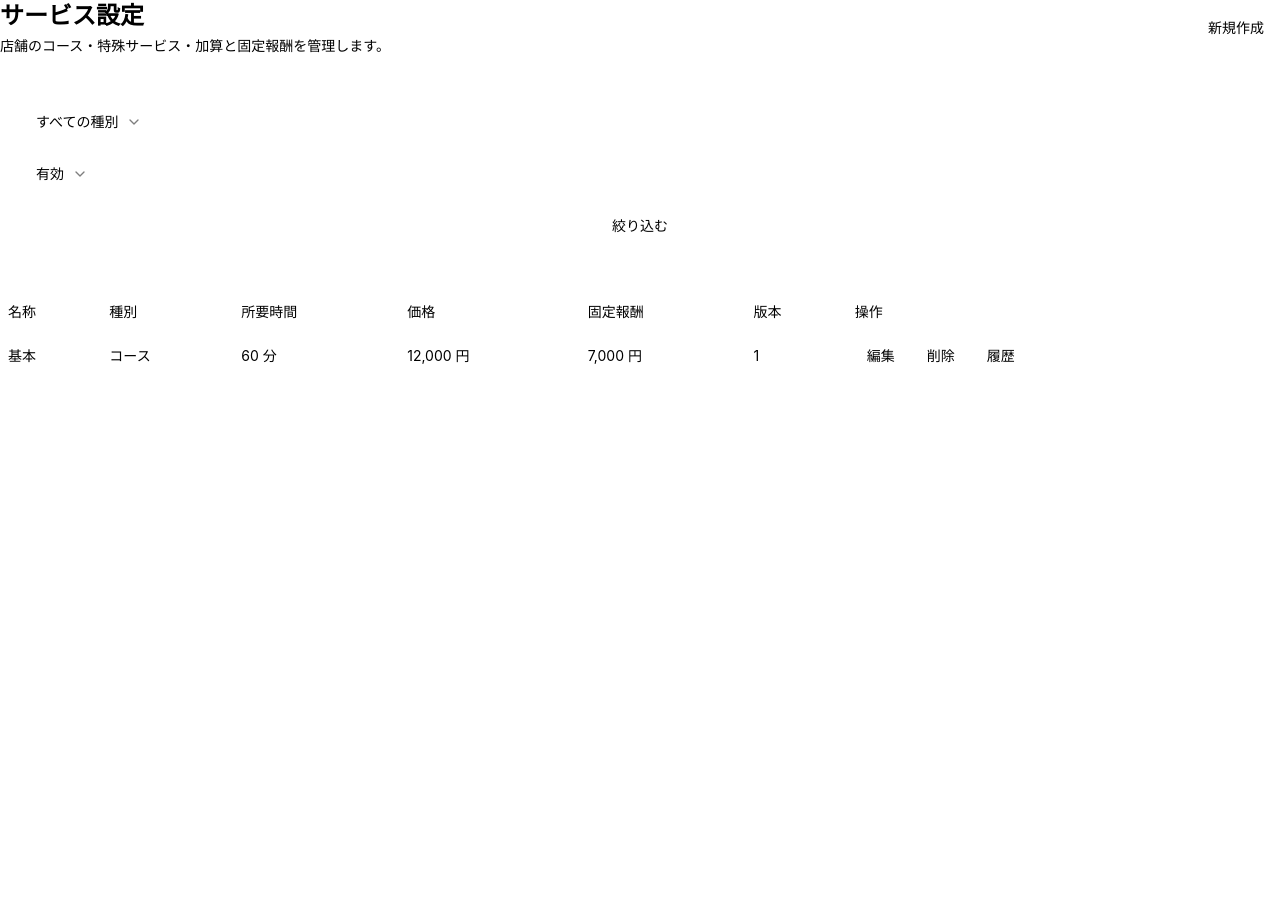
価格より大きい報酬は入力横に示し保存しない
Click the button "編集": click(881, 356) [855, 340, 907, 372]
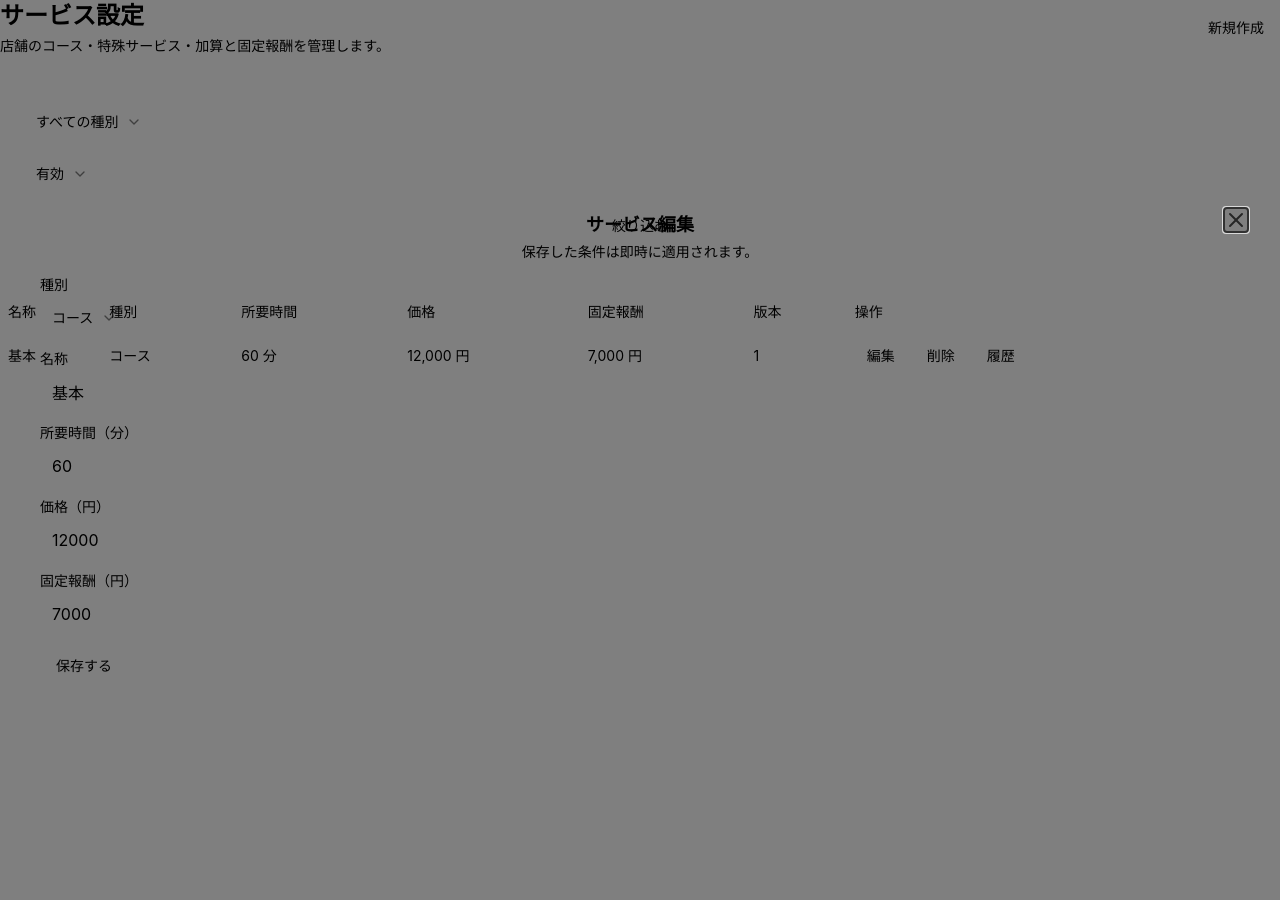
Replace the text in the number field labelled "固定報酬（円）" with "12001": (640, 614) [40, 596, 1240, 632]
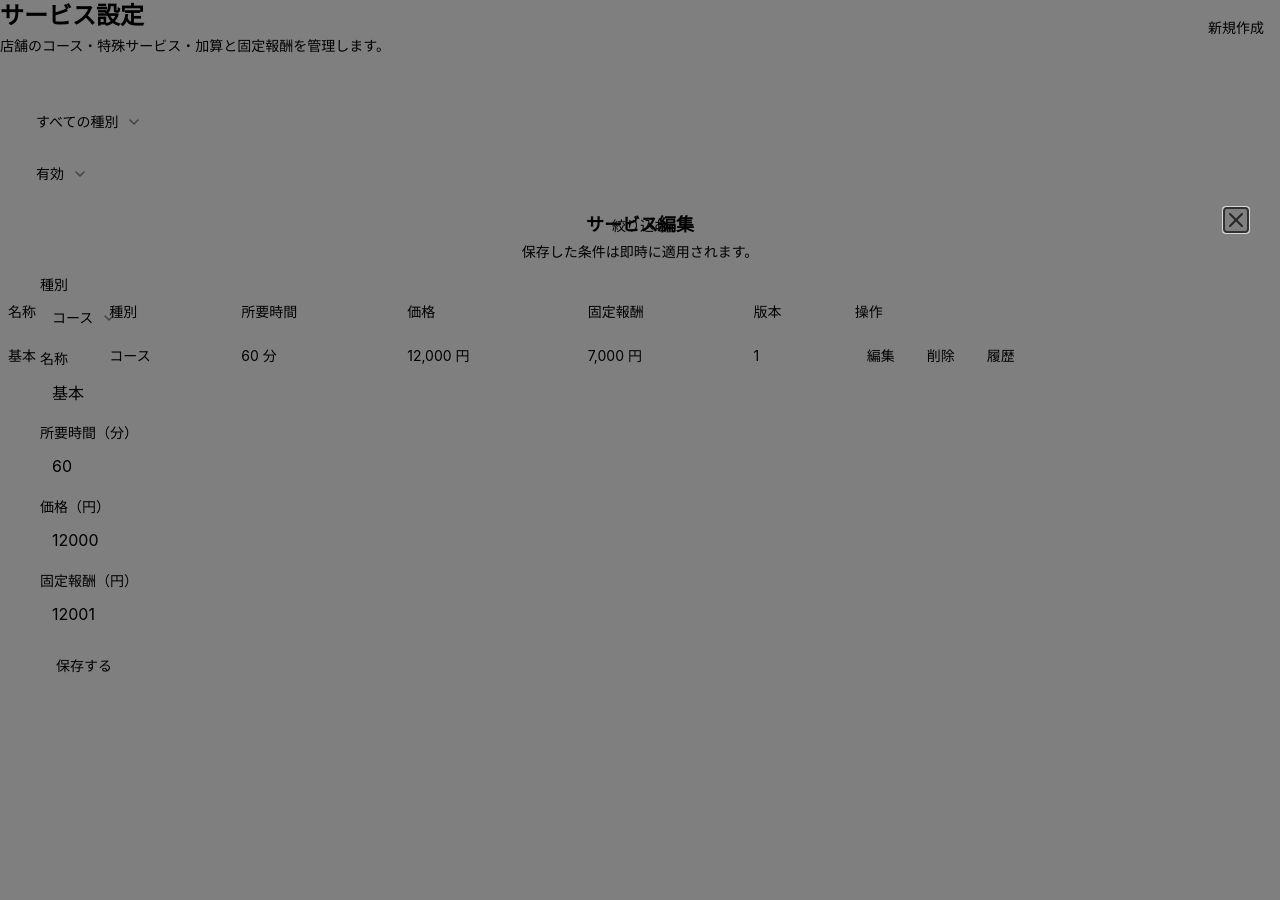
Click the button "保存する": click(84, 666) [40, 648, 128, 684]
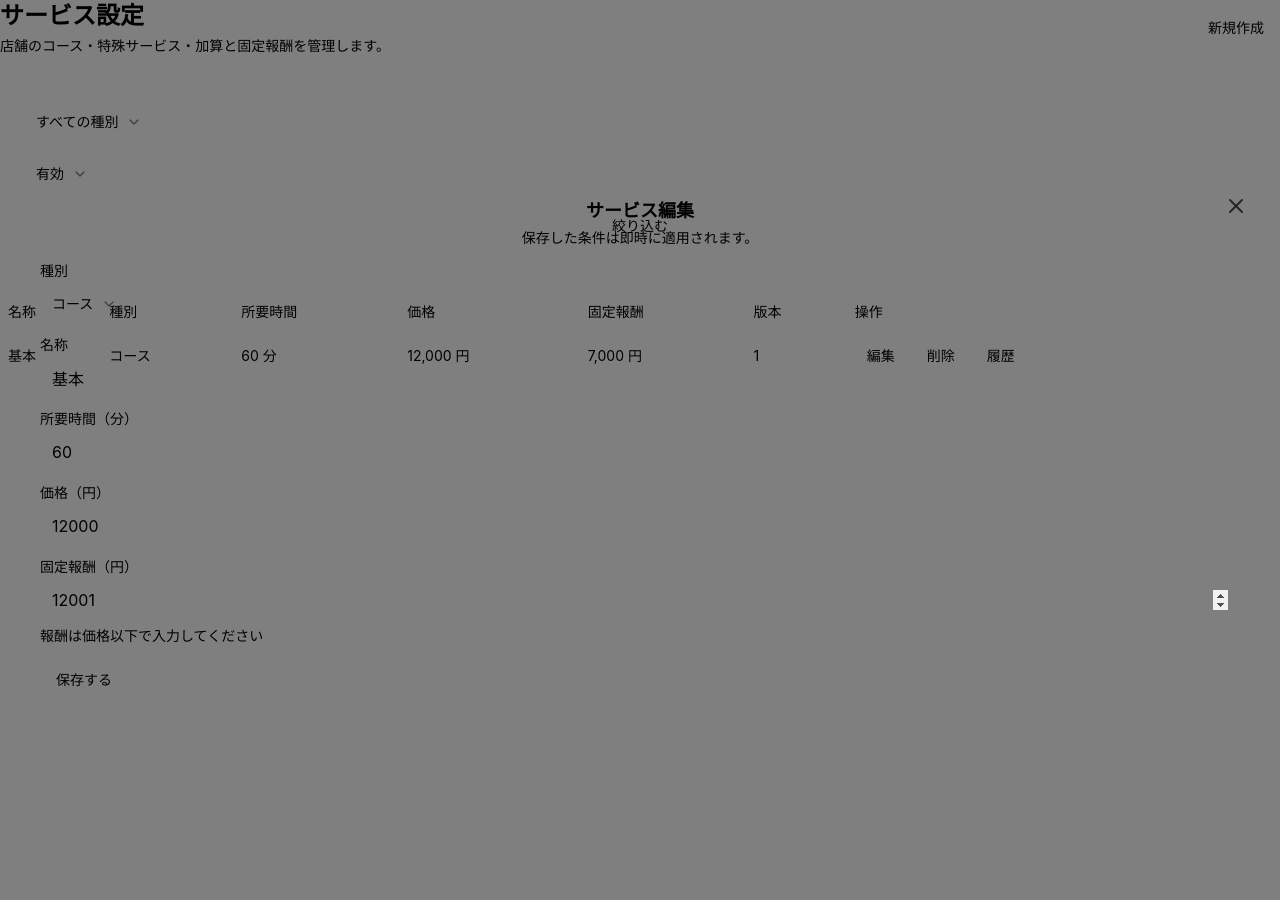
Now the text "報酬は価格以下で入力してください" is shown, box [40, 627, 263, 644]
